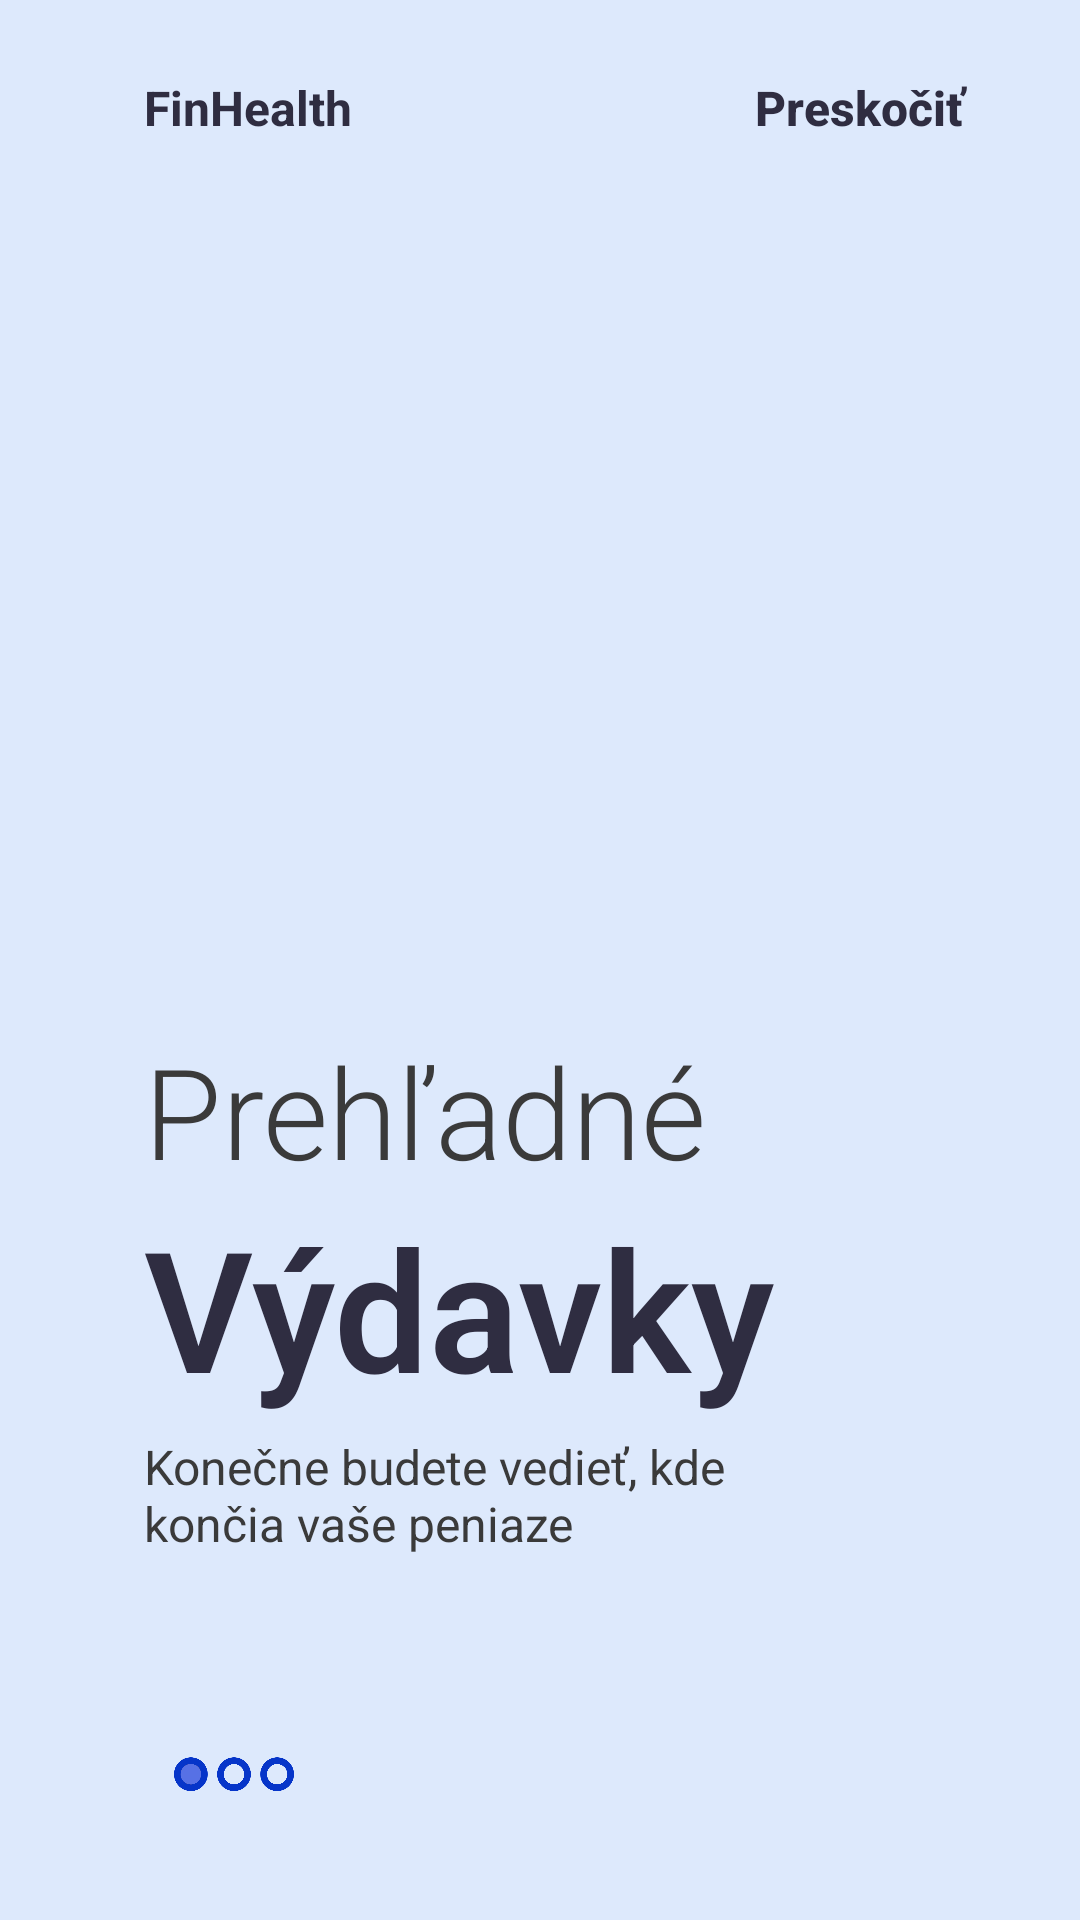

Icon bounding boxes for this 1080 × 1920 phone screenshot, format (left=x1, top=y1, right=x2, bottom=y2):
dots: (left=174, top=1757, right=294, bottom=1791)
